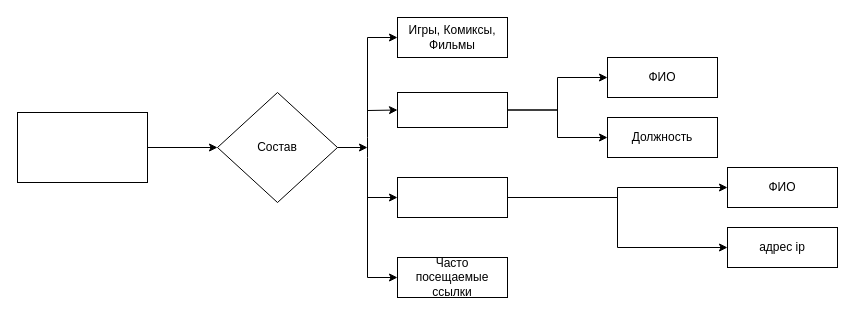
Image size: 855x316. Some labels were removed from this diagram. The box of each missing label's shape, as (x1, y1, x2, y2) in pixels:
Главная: (16, 112, 148, 182)
Пользователи: (396, 176, 508, 218)
Сотрудники: (396, 92, 508, 128)
